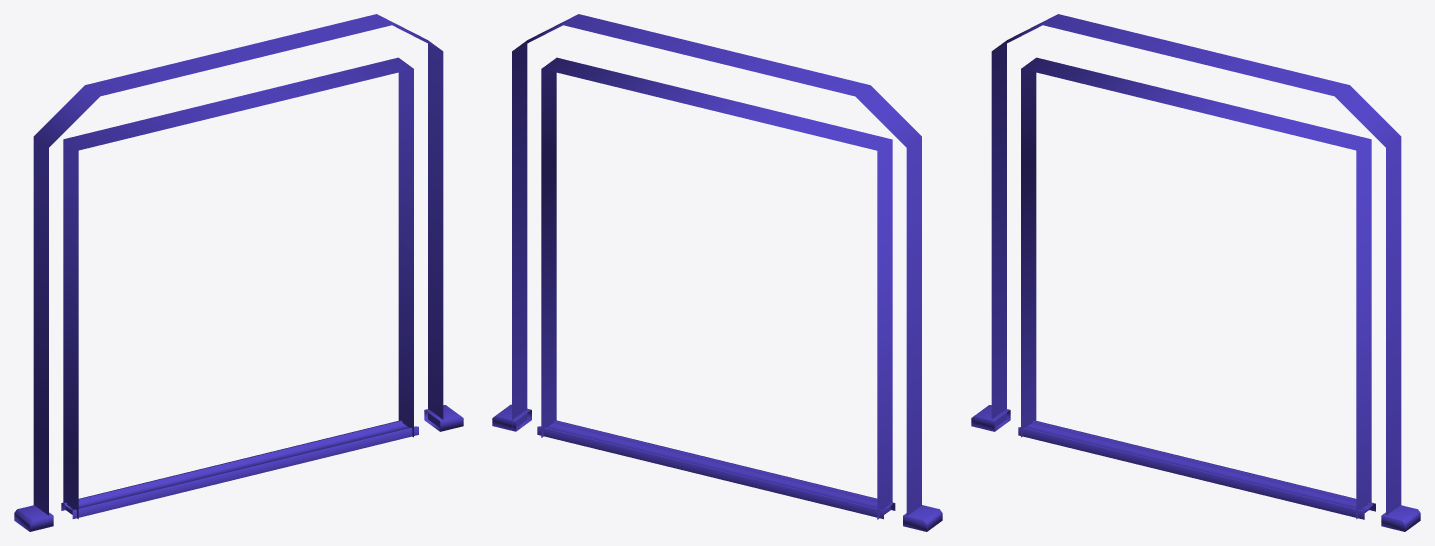
Rendered from Door04_Frame02.FBX.
3 views of the same model, side by side, from view 1: azimuth 30°, elevation 25°; view 2: azimuth 150°, elevation 25°; view 3: azimuth 330°, elevation 25° (orthographic).
Visible parts, largest first — view 1: SM_Door04_Frame02; view 2: SM_Door04_Frame02; view 3: SM_Door04_Frame02.
Boxes of the visible parts, box(x1,y1,x2,y2) form: SM_Door04_Frame02: box(14, 14, 463, 531); SM_Door04_Frame02: box(492, 14, 942, 531); SM_Door04_Frame02: box(971, 14, 1420, 531).
Bounding box in the file's own units: 311 × 286 × 19.98.
